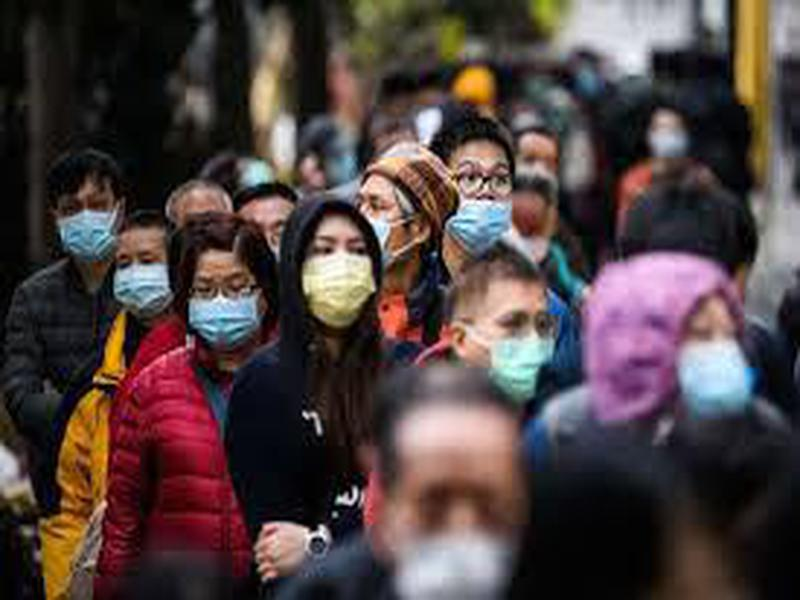with_mask: (379, 402, 519, 600), (612, 250, 760, 425), (449, 252, 558, 405), (297, 212, 379, 327), (187, 246, 271, 350), (458, 136, 515, 259), (108, 225, 176, 318), (53, 171, 117, 263), (649, 102, 690, 171)
